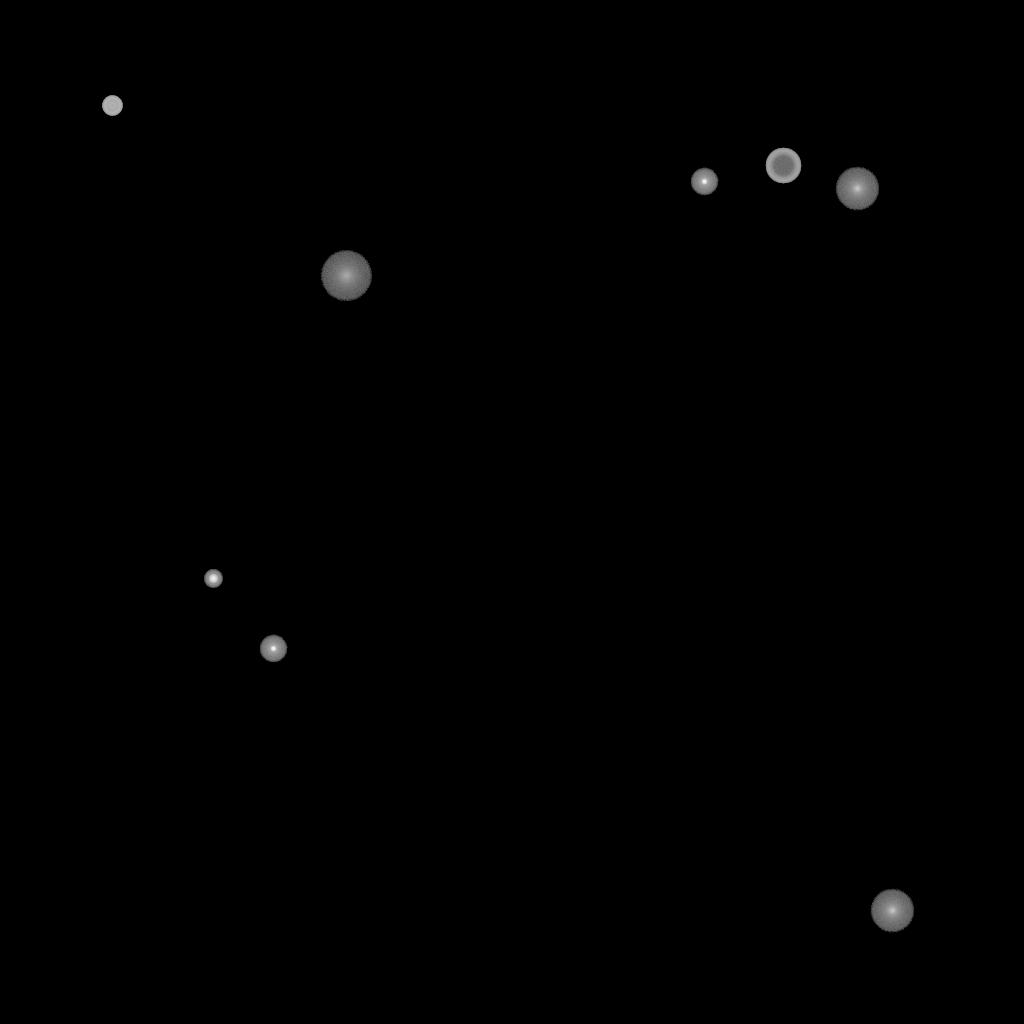depth:-10: (259, 635, 287, 663), (690, 168, 718, 196)
depth:-20: (204, 570, 222, 588)
depth:-40: (102, 96, 122, 116)
depth:-60: (765, 148, 801, 184)
depth:10: (870, 889, 914, 933), (835, 167, 879, 211)
depth:20: (320, 251, 372, 301)
